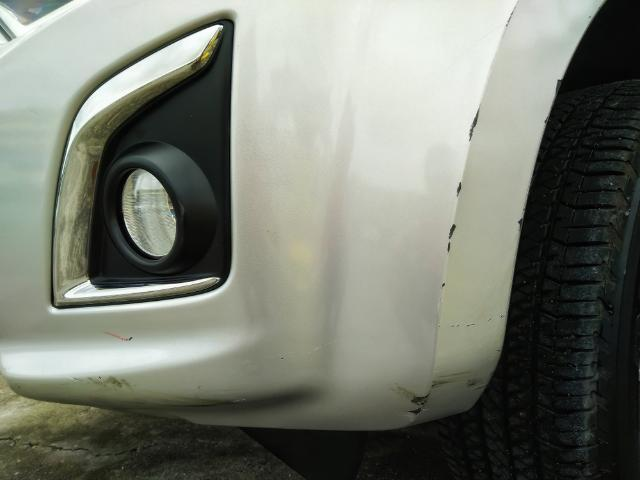scratch: (384, 0, 519, 421)
